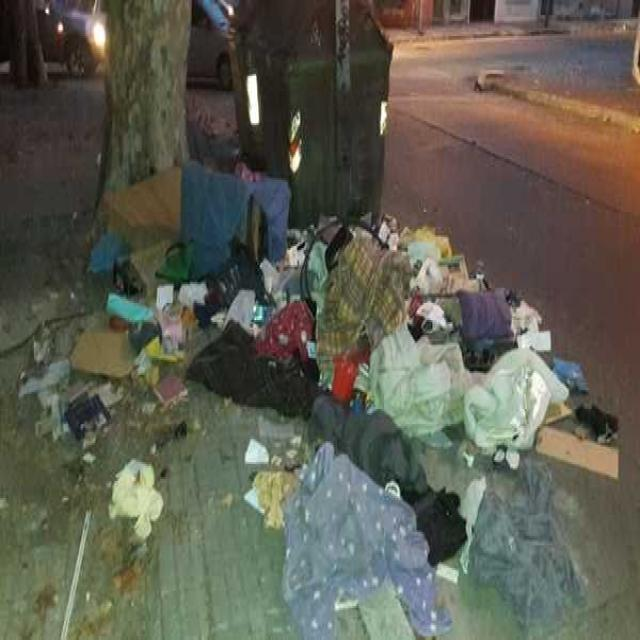garbage: (177, 212, 604, 458), (78, 183, 176, 604)
